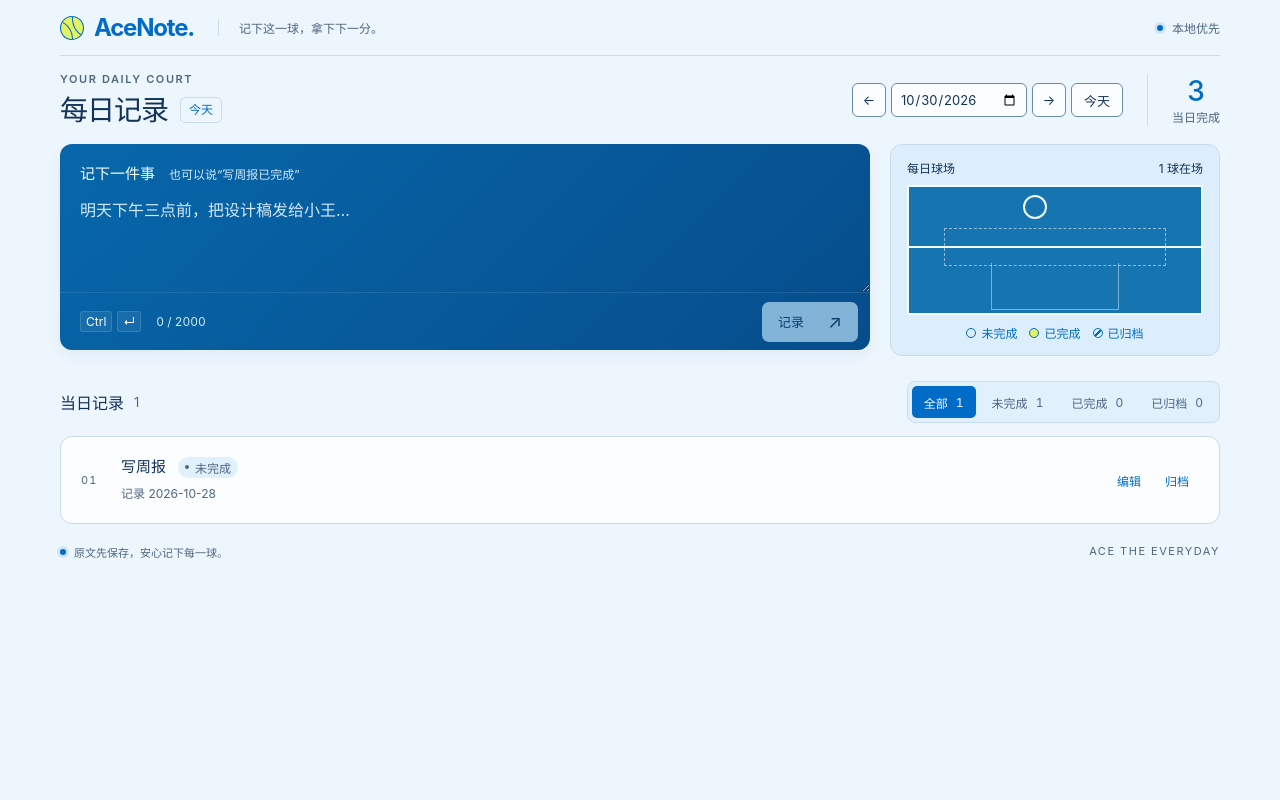
Scenario: LifecyclePage › clears the draft and reports a created task
Expected: the heading "写周报" is shown, x1=121 y1=455 x2=166 y2=479
Type "新任务" into the text box named "待办或完成指令" at (465, 238), box x1=60 y1=183 x2=870 y2=292
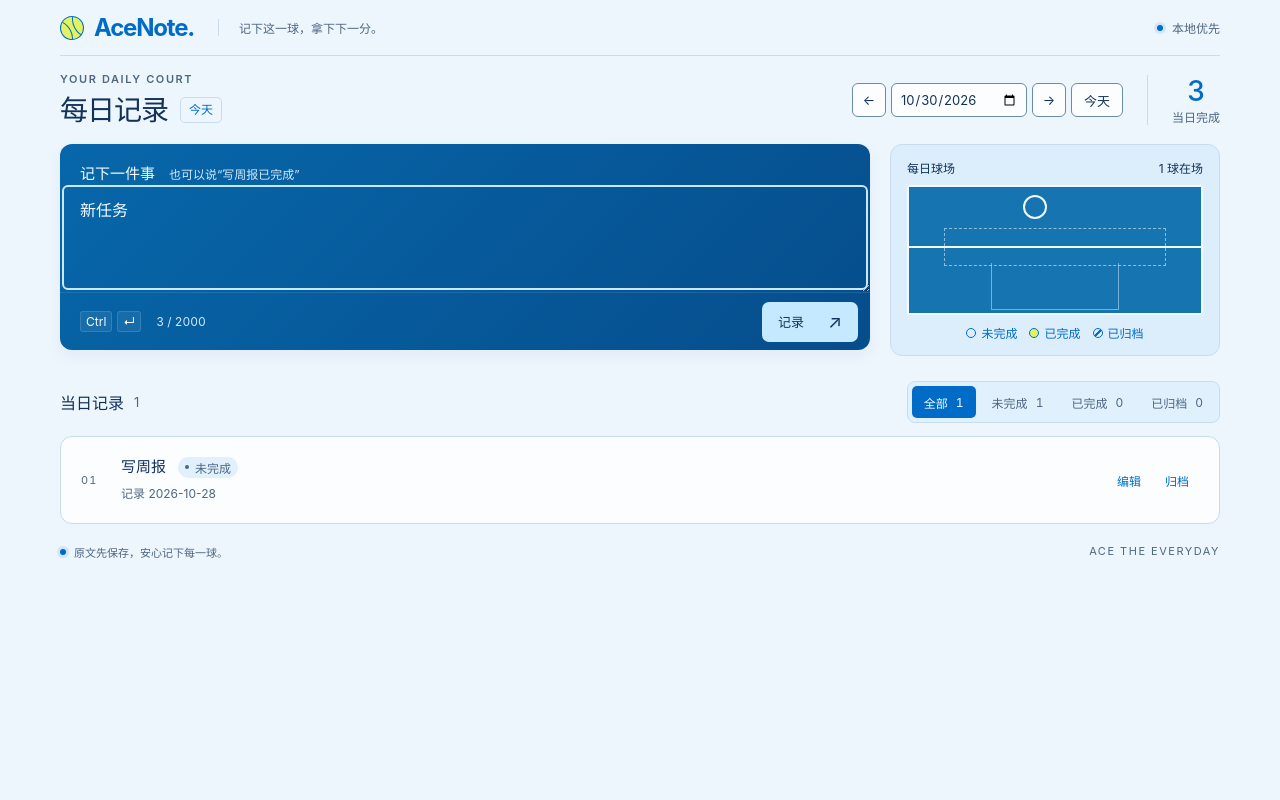
Click the button "记录 ↗" at (810, 322), box x1=762 y1=302 x2=858 y2=342
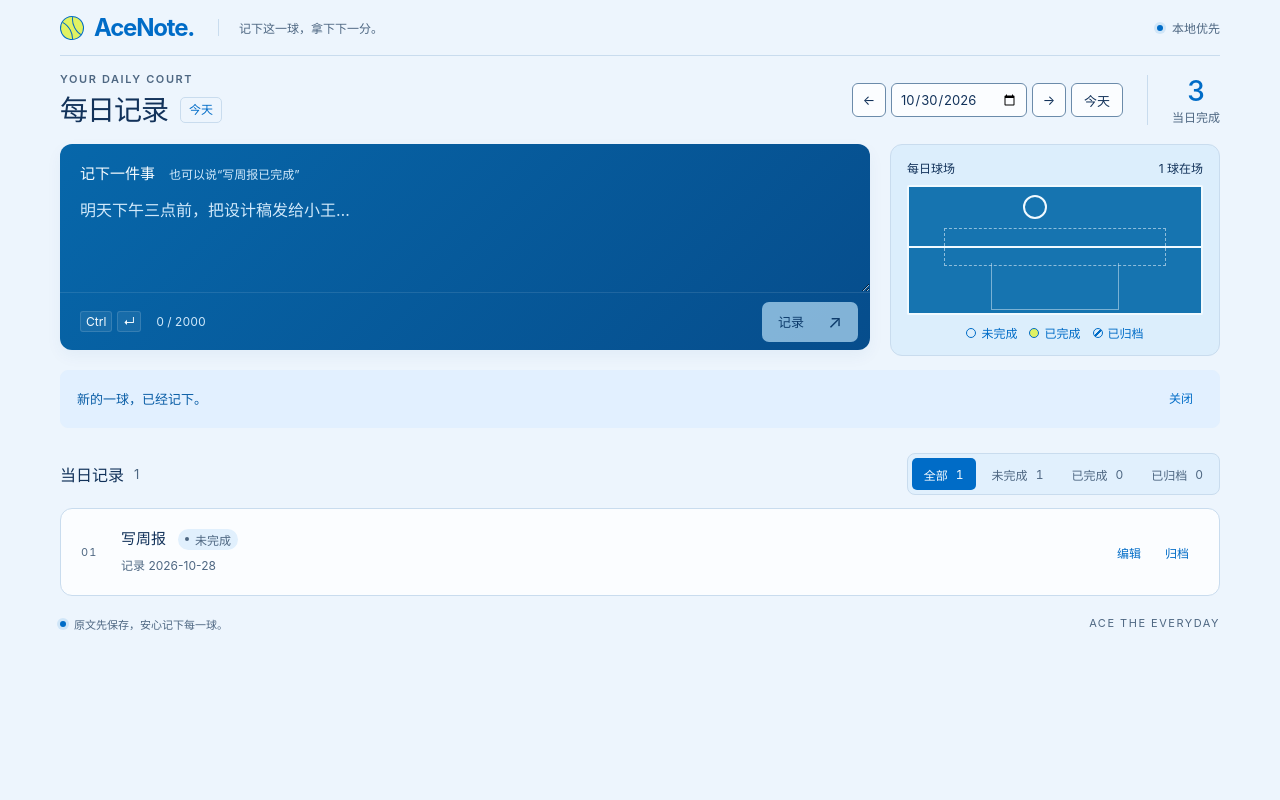
Now the text "新的一球，已经记下。" is shown, box x1=77 y1=391 x2=207 y2=407
Now the text box named "待办或完成指令" is empty, box x1=60 y1=183 x2=870 y2=292
